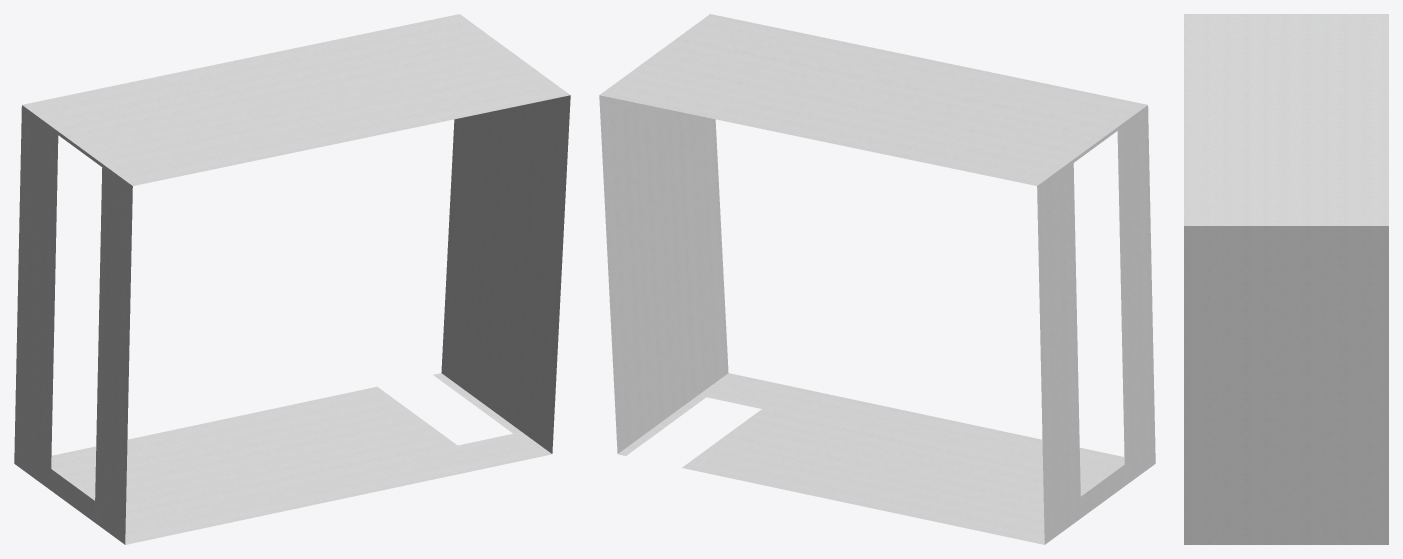
Rendered from scene0420_01_wall.obj.
3 views of the same model, side by side, from view 1: azimuth 30°, elevation 25°; view 2: azimuth 150°, elevation 25°; view 3: azimuth 270°, elevation 25° (orthographic). The views are drawn at different scales.
Bounding box in the file's own units: 6.95 × 5.53 × 3.
1 material, 1 textured.
